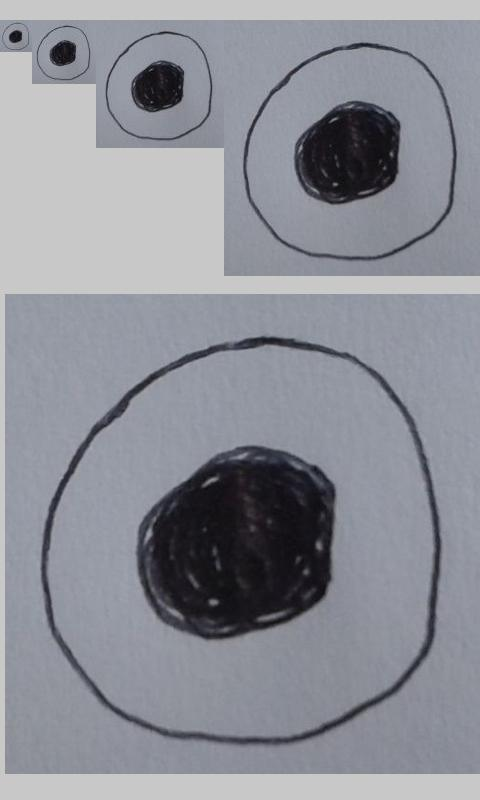radio_button: (37, 334, 443, 747), (242, 41, 458, 263), (104, 31, 214, 142), (35, 24, 92, 81), (1, 22, 30, 51)
